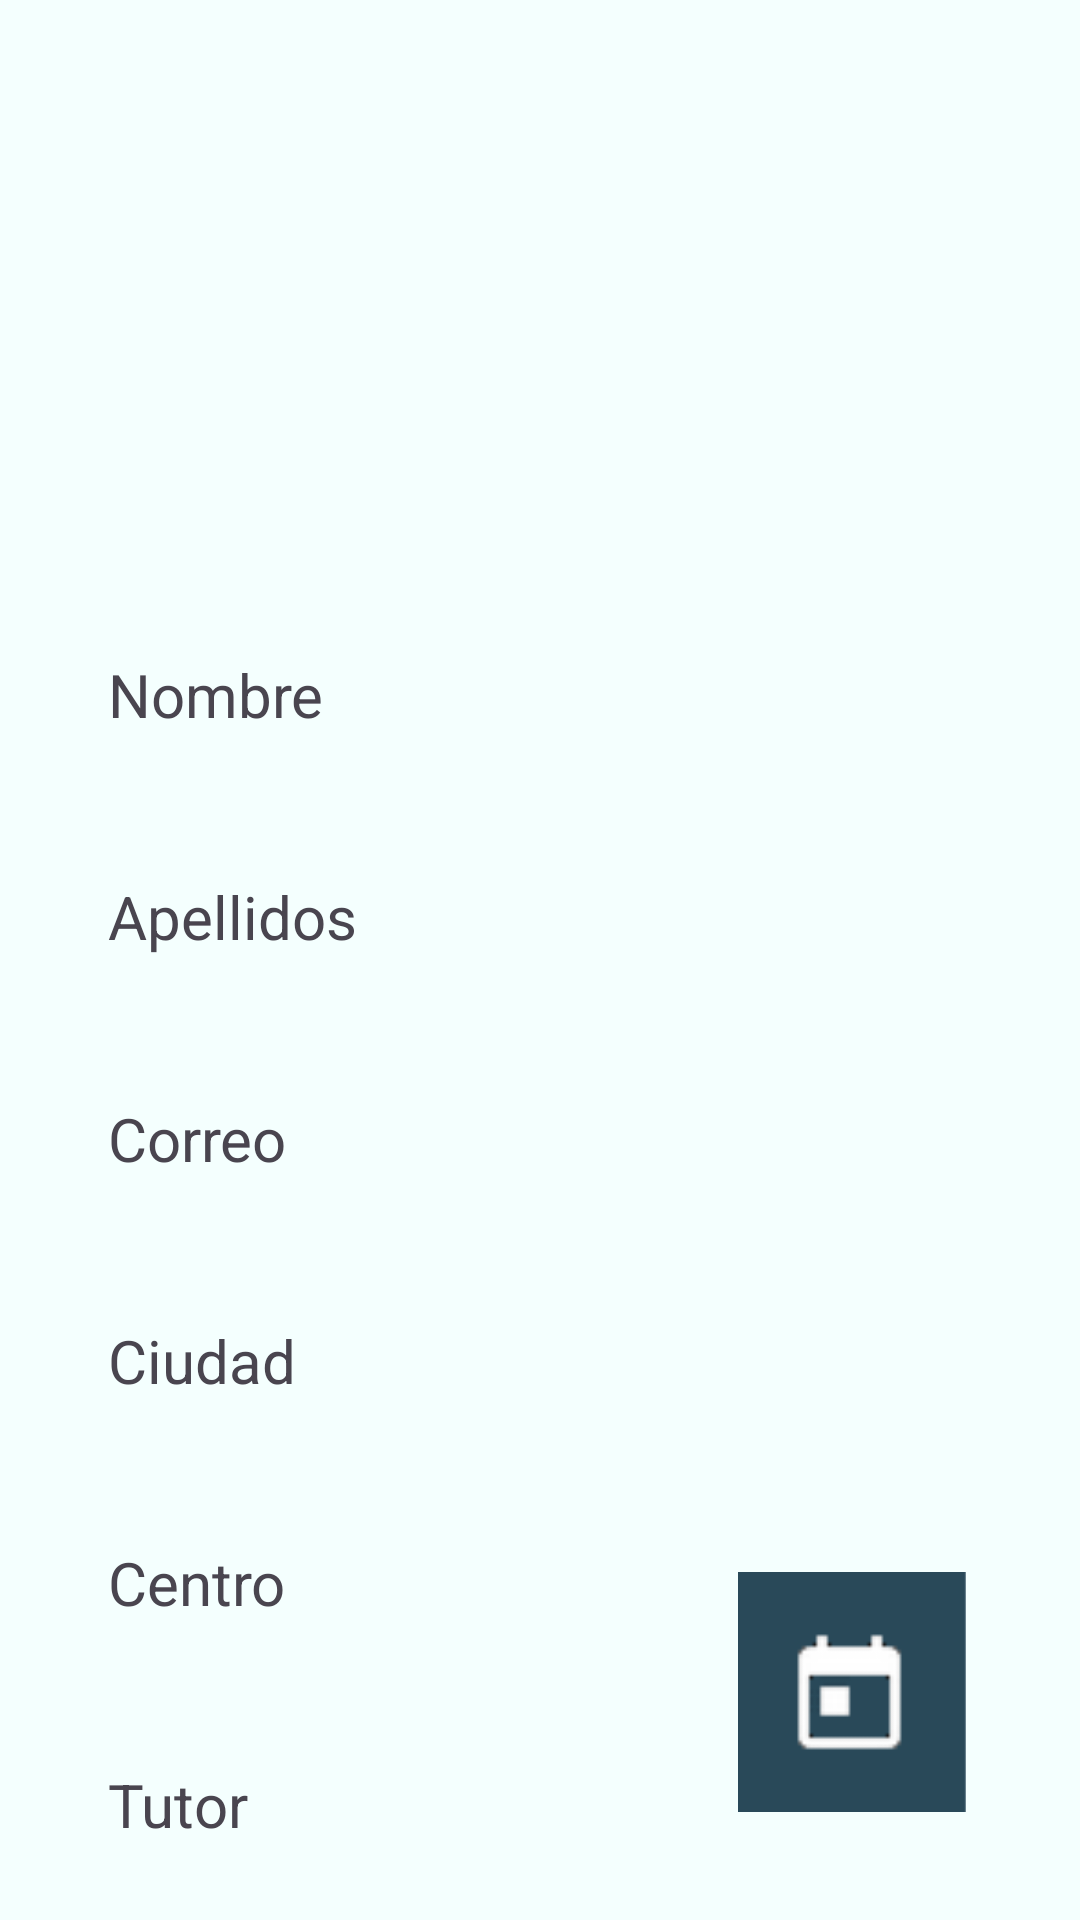

Locate icon controls on the screen. Image size 1080×1920, boxes as (x1, y1, x2, y2).
calendario: (738, 1572, 966, 1812)
